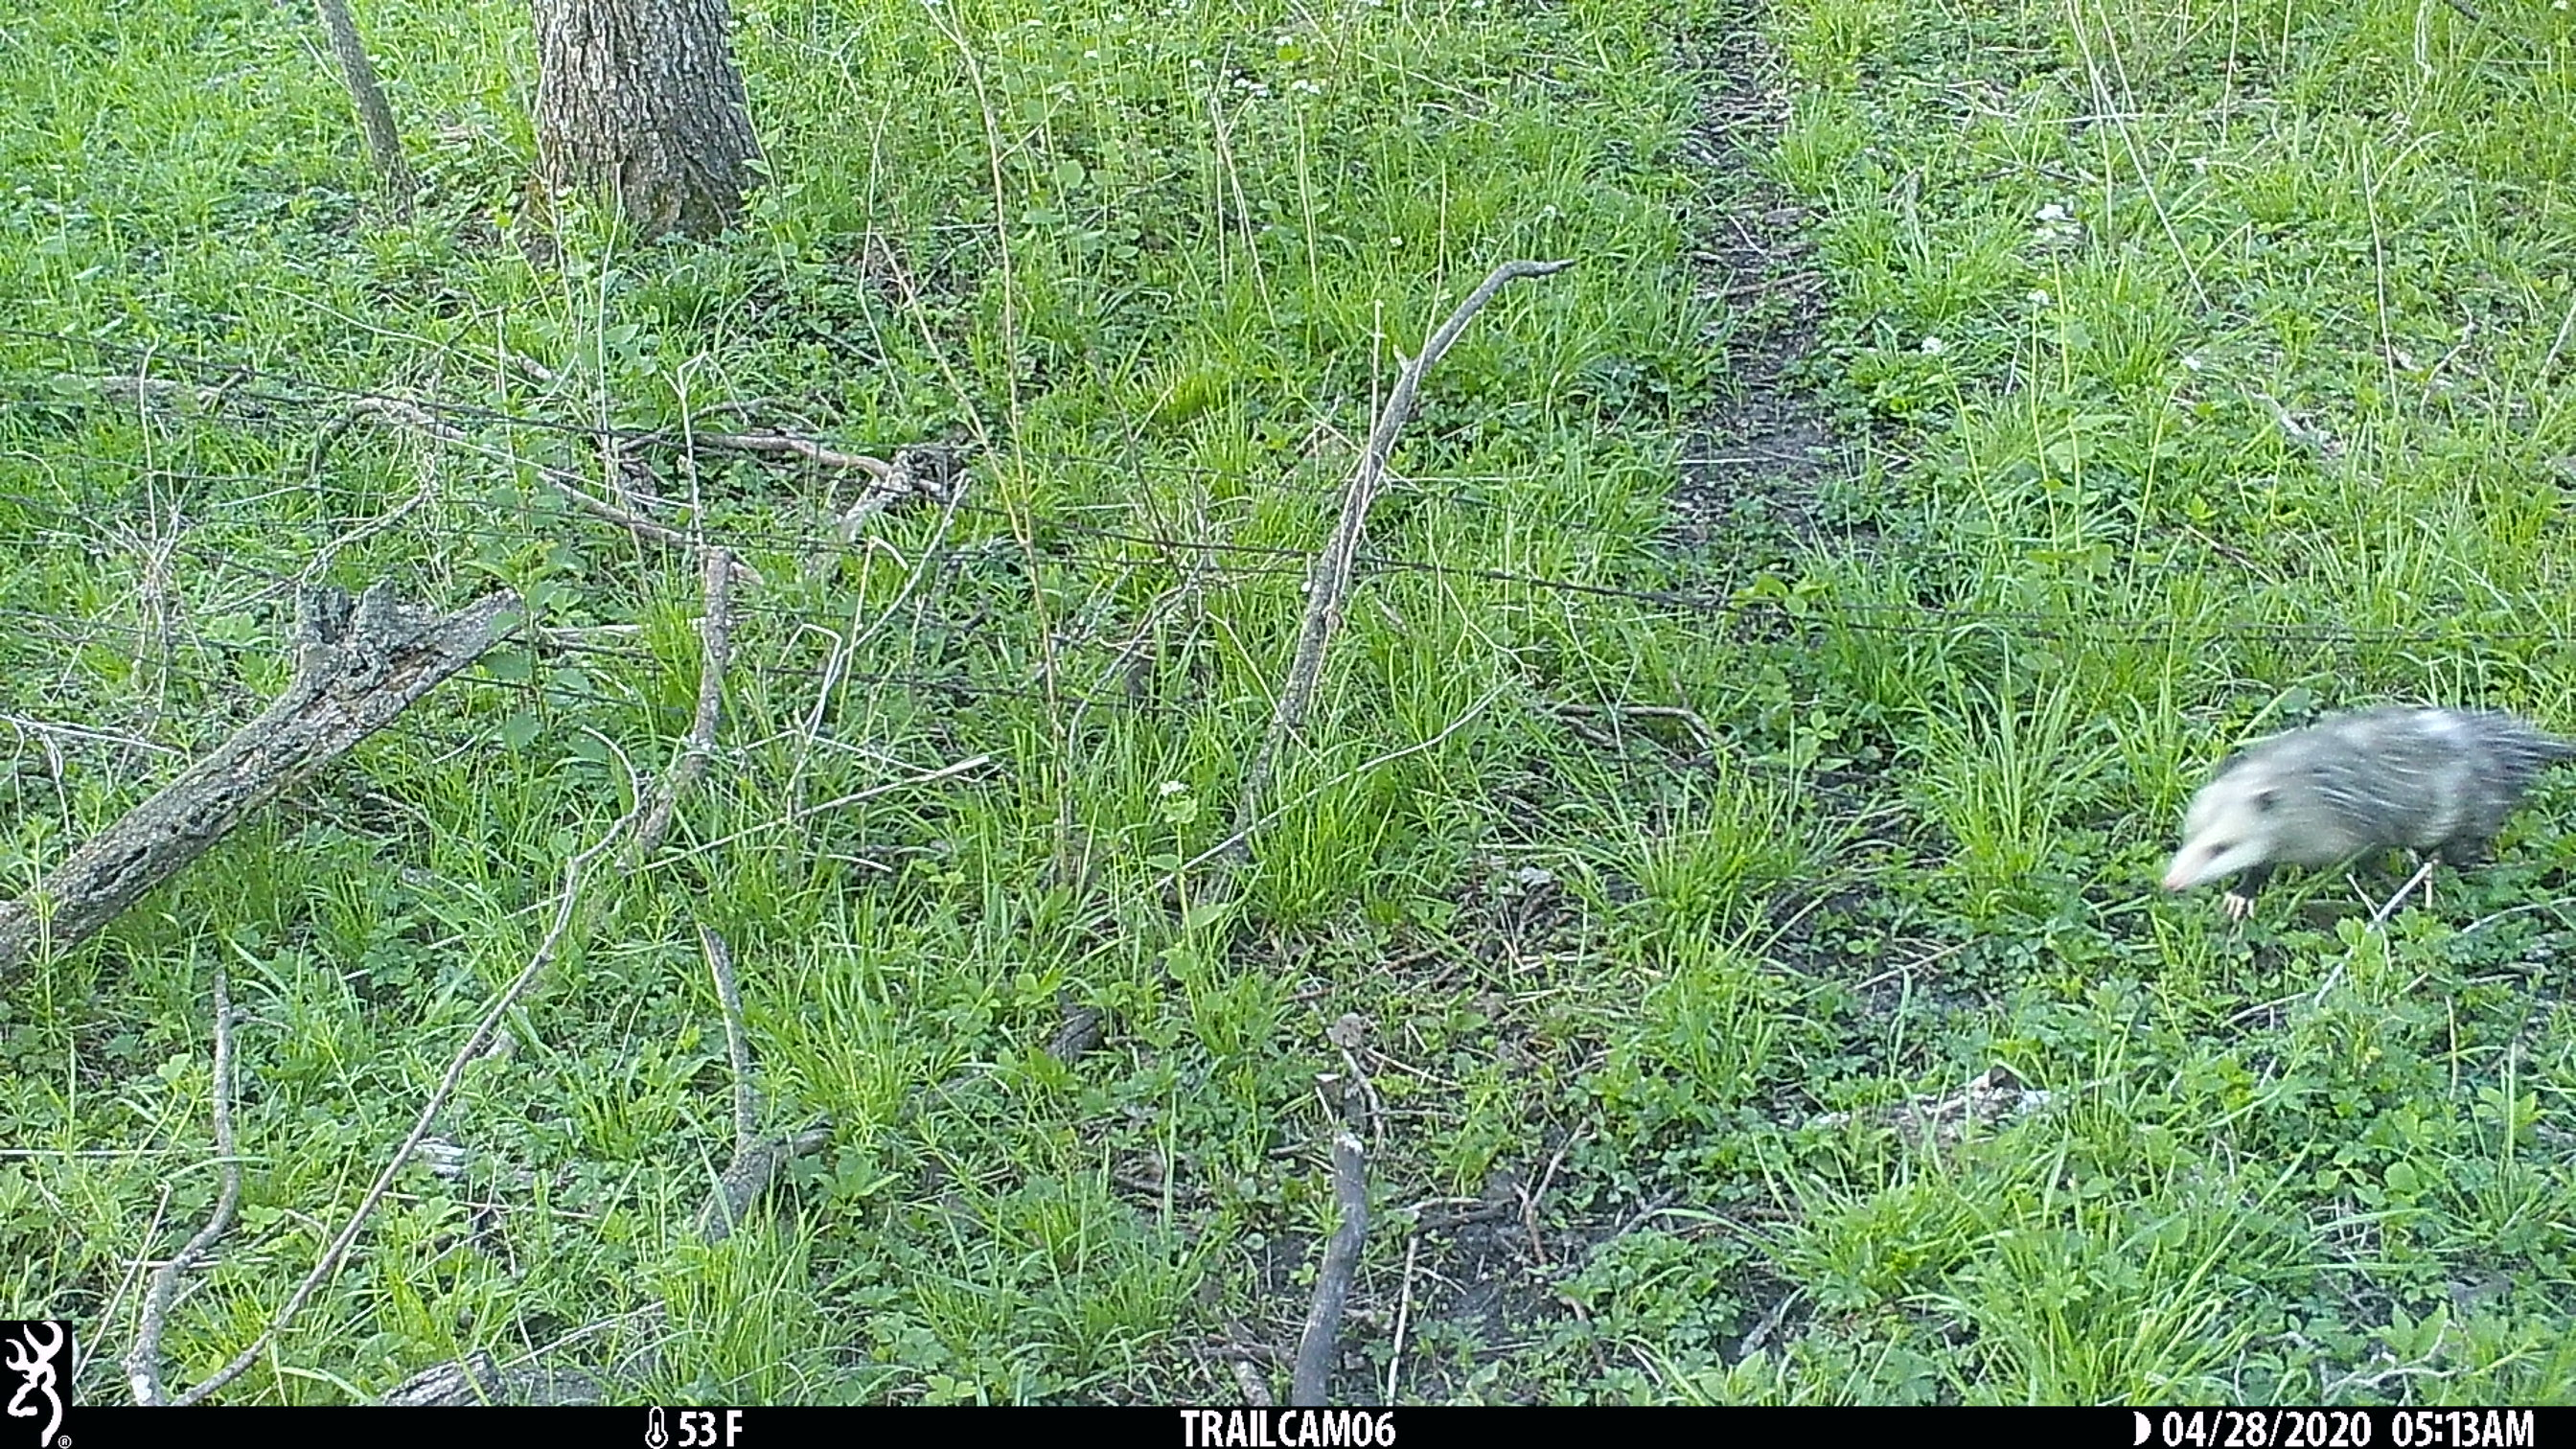Possum: (2157, 701, 2574, 913)
